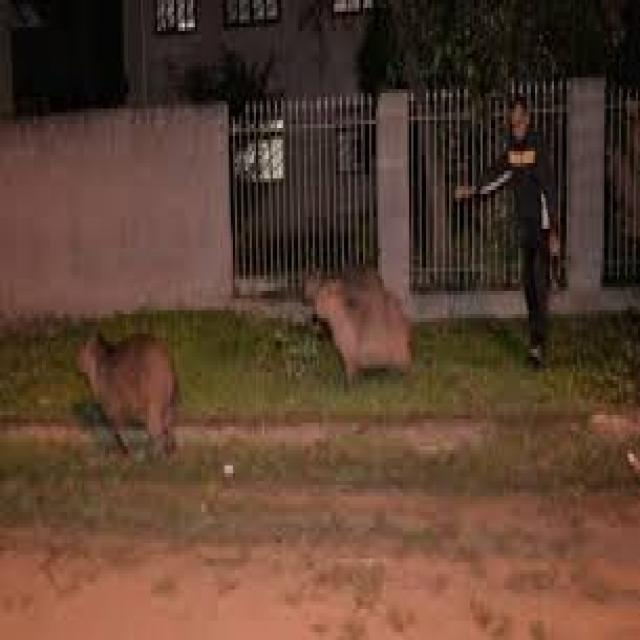capy: (73, 322, 179, 458), (315, 278, 419, 383)
